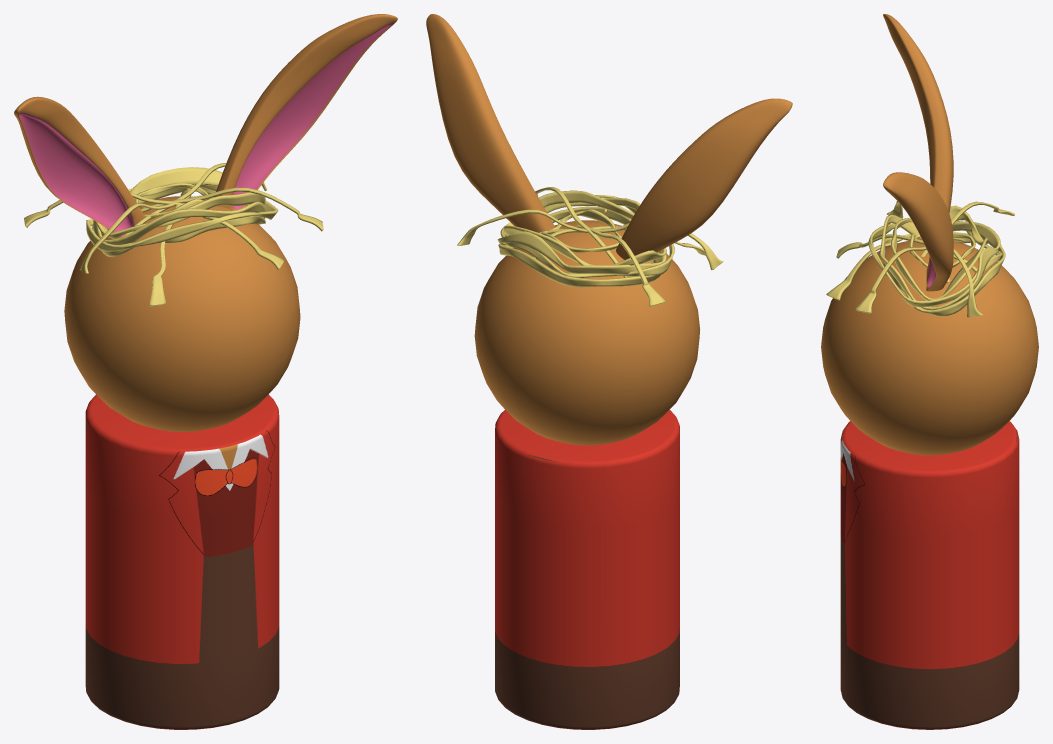
File: marchhare.fbx
3 views of the same model, side by side, from view 1: azimuth 30°, elevation 25°; view 2: azimuth 150°, elevation 25°; view 3: azimuth 270°, elevation 25° (orthographic). The views are drawn at different scales.
Visible parts, largest first — view 1: Cylinder.003, Sphere.004, Cube.006, Circle, Circle.001; view 2: Cylinder.003, Sphere.004, Cube.006, Circle, Circle.001; view 3: Cylinder.003, Sphere.004, Cube.006, Circle, Circle.001.
Part boxes in pixels (x1,y1,x2,y2): Cylinder.003: (85,394,279,729); Sphere.004: (64,196,300,431); Cube.006: (14,14,397,236); Circle: (86,167,278,257); Circle.001: (24,163,323,306); Cylinder.003: (495,409,679,729); Sphere.004: (474,220,699,445); Cube.006: (426,14,792,259); Circle: (497,190,674,287); Circle.001: (457,187,723,306); Cylinder.003: (840,421,1019,729); Sphere.004: (821,238,1038,455); Cube.006: (883,14,953,291); Circle: (868,205,1005,316); Circle.001: (826,201,1014,317).
Size of the model in its own units: 453 by 737 by 244.
Materials: 4 (1 with a texture image).
